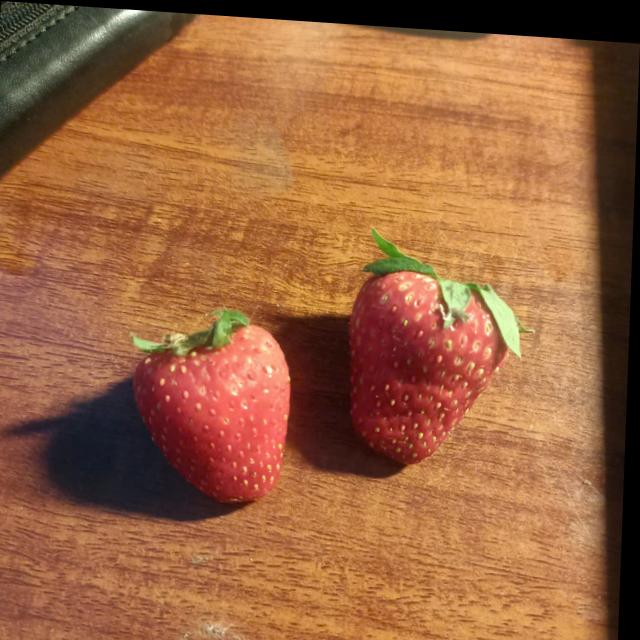DauTay: (330, 213, 529, 469), (111, 302, 314, 534)
